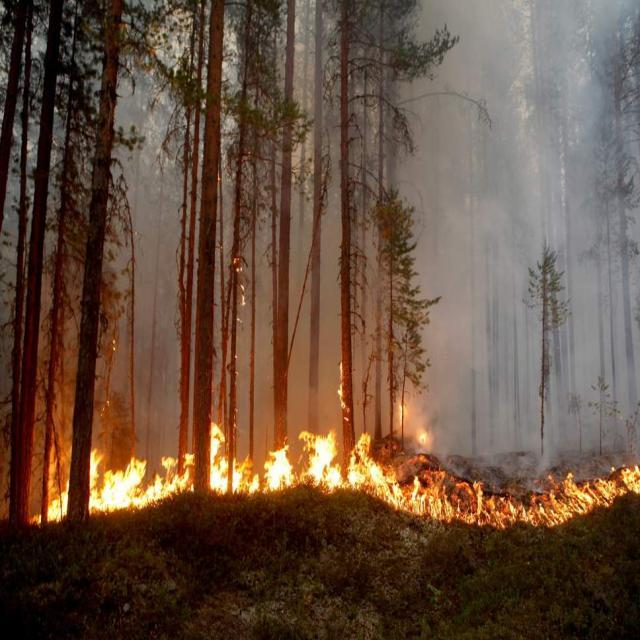Fire: (346, 434, 640, 528), (212, 427, 338, 491), (90, 452, 191, 511), (48, 483, 68, 521)
Smoke: (406, 0, 640, 399), (117, 103, 177, 438)
